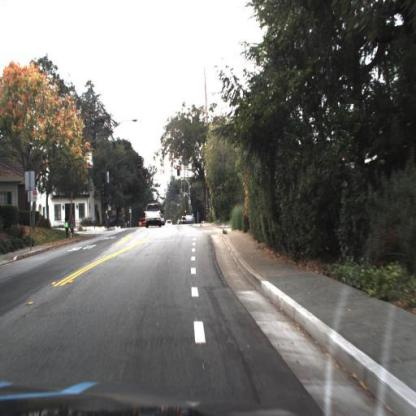car: (146, 204, 164, 229), (186, 213, 195, 224)
pedestrian: (70, 213, 75, 243), (66, 212, 70, 239)
trafficLight-Red: (177, 165, 181, 177)
